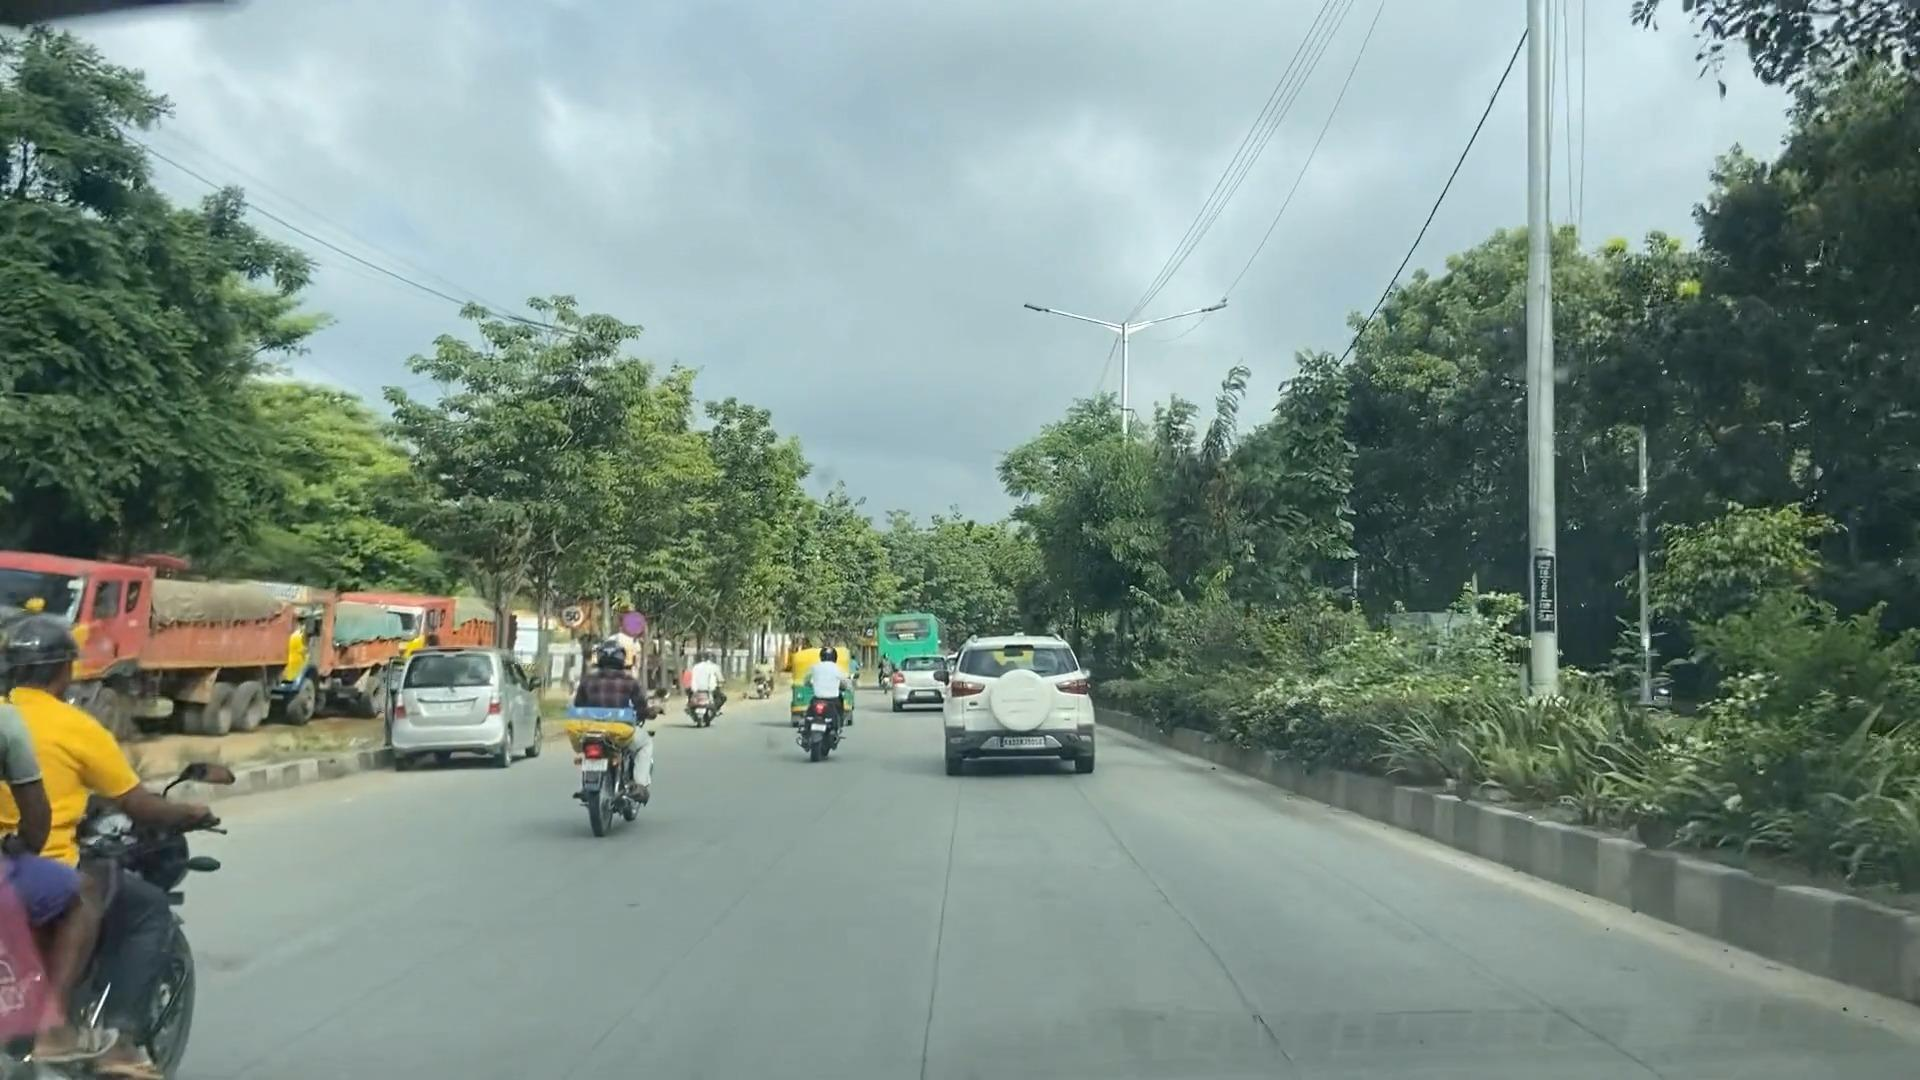LMV: (0, 597, 351, 1080), (926, 621, 1118, 799), (360, 630, 551, 777), (560, 634, 675, 837), (774, 636, 865, 825)
